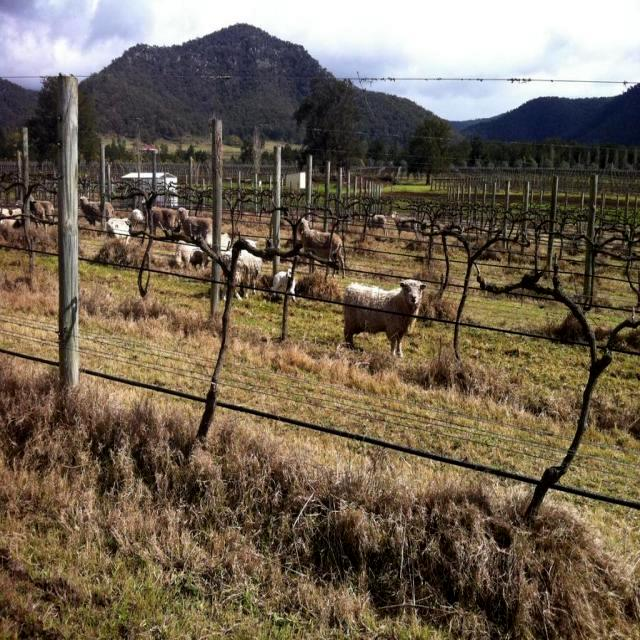sheep: (339, 279, 426, 355)
